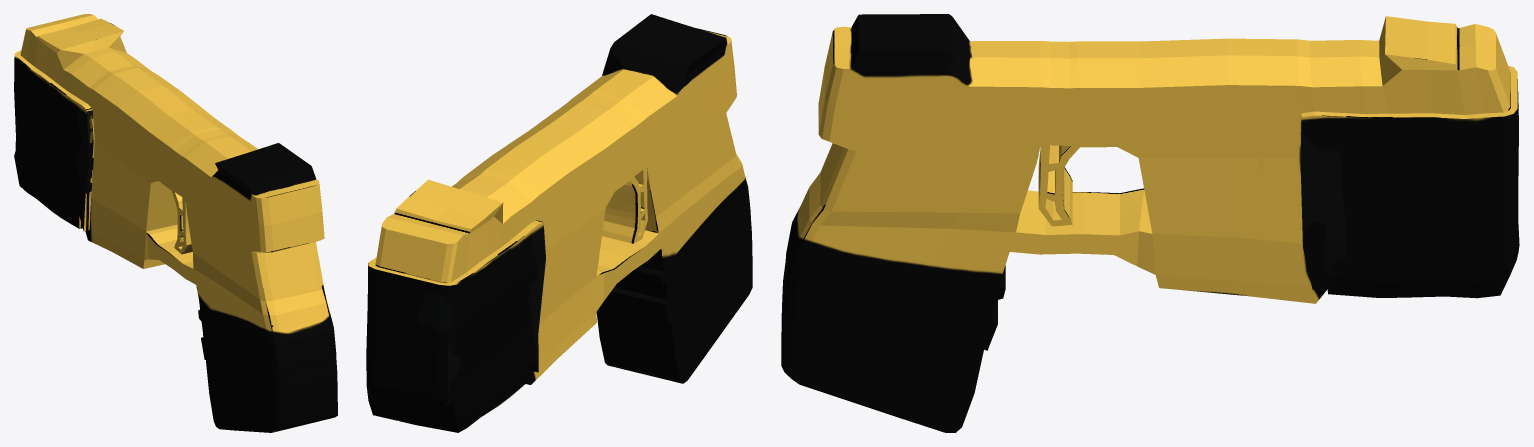
File: TaserGun.fbx
3 renders of one model, left to right at view 1: azimuth 30°, elevation 25°; view 2: azimuth 150°, elevation 25°; view 3: azimuth 270°, elevation 25°, orthographic. The views are drawn at different scales.
Visible parts, largest first — view 1: TaseGun; view 2: TaseGun; view 3: TaseGun.
Part boxes in pixels (box(x1,y1,x2,y2)): TaseGun: box(14, 14, 337, 432); TaseGun: box(366, 14, 752, 432); TaseGun: box(781, 14, 1519, 432).
Bounding box in the file's own units: 71.48 × 239 × 420.
